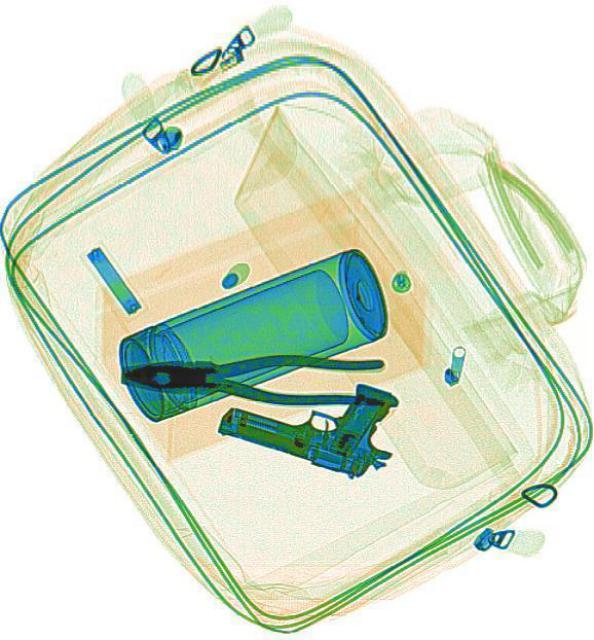Gun: (213, 344, 409, 486)
Pliers: (119, 348, 398, 406)
